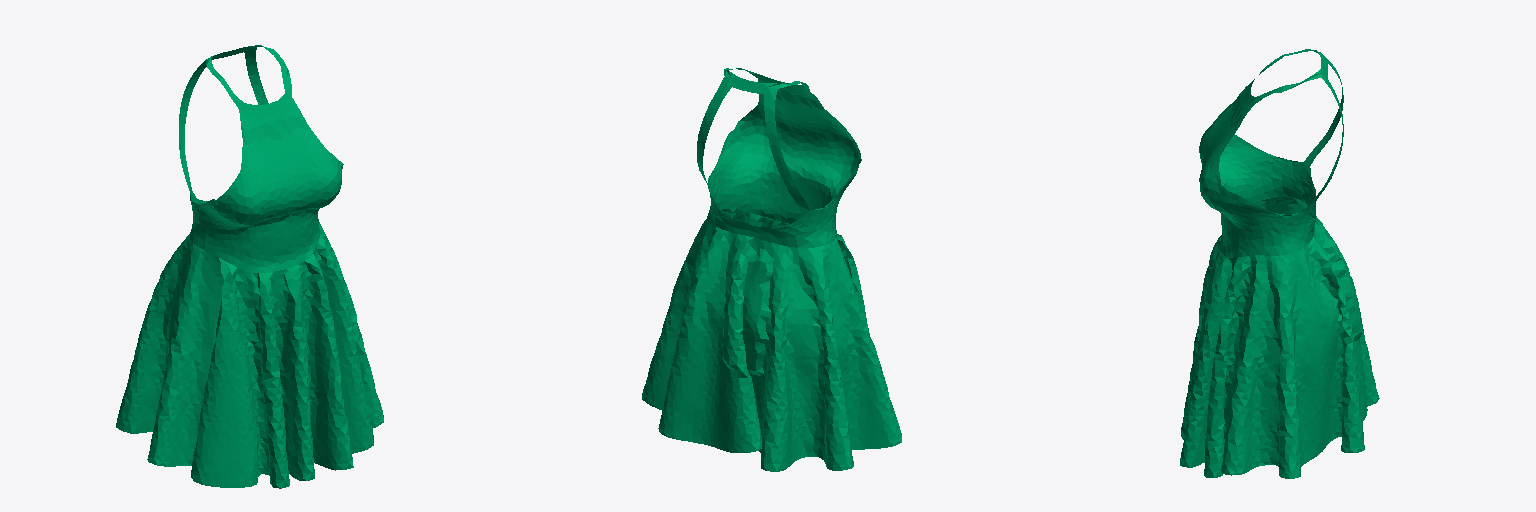
3 renders of one model, left to right at view 1: azimuth 30°, elevation 25°; view 2: azimuth 150°, elevation 25°; view 3: azimuth 270°, elevation 25°, orthographic.
Visible parts, largest first — view 1: medium_greenDress_noinside:polySurface2 medium_greenDress_noinsi; view 2: medium_greenDress_noinside:polySurface2 medium_greenDress_noinsi; view 3: medium_greenDress_noinside:polySurface2 medium_greenDress_noinsi.
Part boxes in pixels (x1,y1,x2,y2): medium_greenDress_noinside:polySurface2 medium_greenDress_noinsi: (116, 45, 383, 488); medium_greenDress_noinside:polySurface2 medium_greenDress_noinsi: (642, 68, 901, 471); medium_greenDress_noinside:polySurface2 medium_greenDress_noinsi: (1180, 49, 1379, 478).
Size of the model in its own units: 5.61 by 8.57 by 4.01.
Materials: 9 (1 with a texture image).